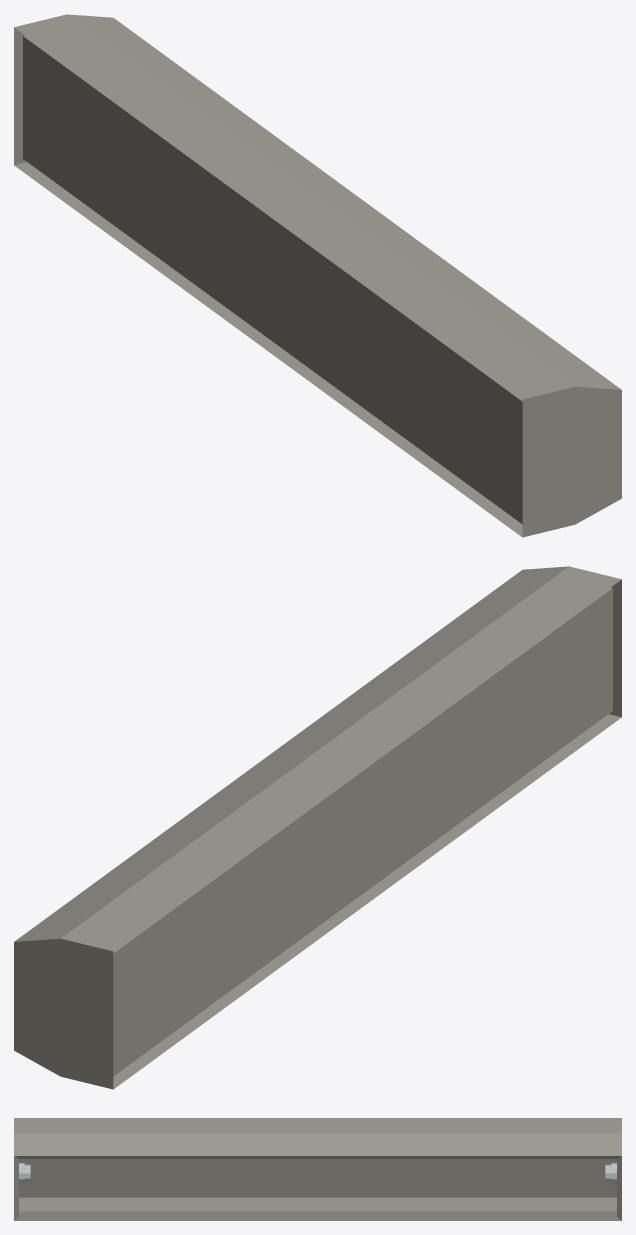
File: light_box.fbx
3 views of the same model, one above another, from view 1: azimuth 30°, elevation 25°; view 2: azimuth 150°, elevation 25°; view 3: azimuth 270°, elevation 25° (orthographic). The views are drawn at different scales.
Parts seen in each view (by area): view 1: Light1-material; view 2: Light1-material; view 3: Light1-material.
Boxes of the visible parts, x1,y1,x2,y2 form: Light1-material: (14,14,621,537); Light1-material: (14,566,621,1089); Light1-material: (14,1118,621,1220).
Bounding box in the file's own units: 1.66 × 2.2 × 14.7.
1 material, 1 textured.
